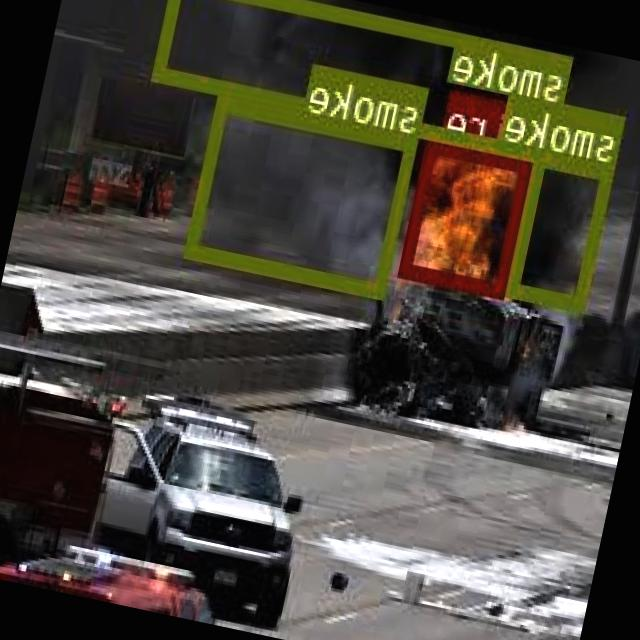fire: (402, 134, 534, 296)
smoke: (154, 0, 574, 161), (187, 95, 420, 296), (509, 150, 616, 310)
